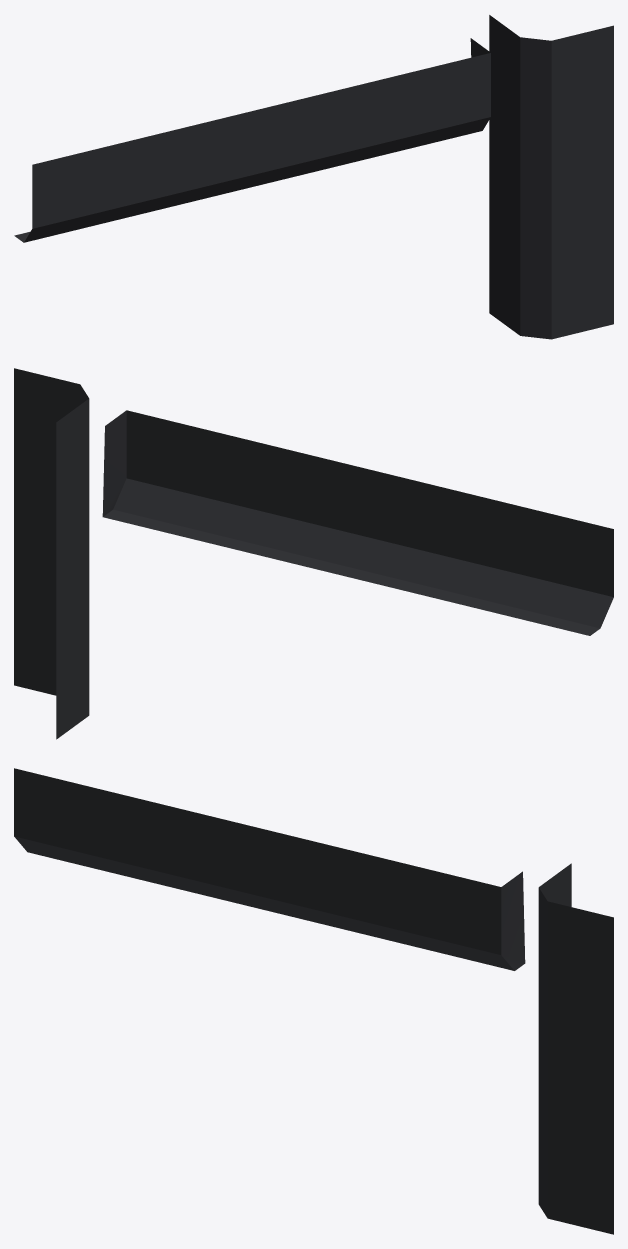
The model's file is pillars.glb.
The picture shows the model from 3 angles, top to bottom: view 1: azimuth 30°, elevation 25°; view 2: azimuth 150°, elevation 25°; view 3: azimuth 330°, elevation 25°; orthographic projection. The views are drawn at different scales.
Parts seen in each view (by area): view 1: Element_01_low; view 2: Element_01_low; view 3: Element_01_low.
Part boxes in pixels (x1,y1,x2,y2): Element_01_low: (14,15,613,339); Element_01_low: (14,368,613,739); Element_01_low: (14,768,613,1234).
Size of the model in its own units: 4.45 by 2.22 by 0.5715.
1 material, 1 textured.
